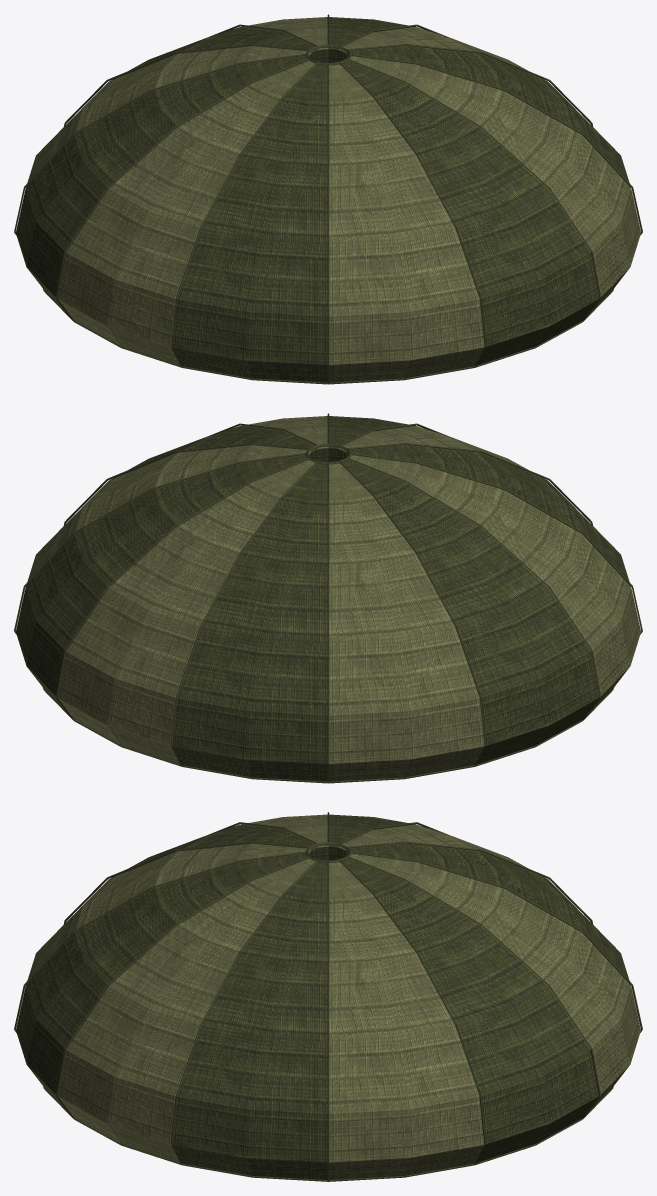
File: weapon_supply_parachute.obj
The picture shows the model from 3 angles, top to bottom: view 1: azimuth 30°, elevation 25°; view 2: azimuth 150°, elevation 25°; view 3: azimuth 270°, elevation 25°; orthographic projection.
Parts seen in each view (by area): view 1: canopy_gore_05, canopy_gore_04, canopy_gore_06, canopy_gore_03, canopy_gore_07, canopy_gore_02, canopy_gore_01, canopy_gore_08, canopy_gore_09, canopy_gore_12, canopy_gore_11, canopy_gore_10; view 2: canopy_gore_08, canopy_gore_09, canopy_gore_07, canopy_gore_10, canopy_gore_06, canopy_gore_11, canopy_gore_05, canopy_gore_12, canopy_gore_01, canopy_gore_04, canopy_gore_02, canopy_gore_03; view 3: canopy_gore_01, canopy_gore_12, canopy_gore_02, canopy_gore_11, canopy_gore_03, canopy_gore_10, canopy_gore_04, canopy_gore_09, canopy_gore_05, canopy_gore_08, canopy_gore_06, canopy_gore_07.
Boxes of the visible parts, x1=… form: canopy_gore_05: x1=172, y1=64, x2=327, y2=382; canopy_gore_04: x1=329, y1=64, x2=484, y2=382; canopy_gore_06: x1=58, y1=61, x2=316, y2=365; canopy_gore_03: x1=340, y1=61, x2=598, y2=365; canopy_gore_07: x1=16, y1=56, x2=308, y2=312; canopy_gore_02: x1=348, y1=56, x2=640, y2=312; canopy_gore_01: x1=345, y1=46, x2=630, y2=187; canopy_gore_08: x1=26, y1=46, x2=311, y2=187; canopy_gore_09: x1=109, y1=27, x2=318, y2=81; canopy_gore_12: x1=338, y1=27, x2=547, y2=81; canopy_gore_11: x1=328, y1=17, x2=415, y2=62; canopy_gore_10: x1=241, y1=17, x2=328, y2=62; canopy_gore_08: x1=329, y1=463, x2=484, y2=781; canopy_gore_09: x1=172, y1=463, x2=327, y2=781; canopy_gore_07: x1=340, y1=460, x2=598, y2=764; canopy_gore_10: x1=58, y1=460, x2=316, y2=764; canopy_gore_06: x1=348, y1=455, x2=640, y2=711; canopy_gore_11: x1=16, y1=455, x2=308, y2=711; canopy_gore_05: x1=345, y1=445, x2=630, y2=586; canopy_gore_12: x1=26, y1=445, x2=311, y2=586; canopy_gore_01: x1=109, y1=426, x2=318, y2=480; canopy_gore_04: x1=338, y1=426, x2=547, y2=480; canopy_gore_02: x1=241, y1=416, x2=328, y2=461; canopy_gore_03: x1=328, y1=416, x2=415, y2=461; canopy_gore_01: x1=172, y1=862, x2=327, y2=1179; canopy_gore_12: x1=329, y1=862, x2=484, y2=1179; canopy_gore_02: x1=58, y1=858, x2=316, y2=1162; canopy_gore_11: x1=340, y1=858, x2=598, y2=1162; canopy_gore_03: x1=16, y1=853, x2=308, y2=1110; canopy_gore_10: x1=348, y1=853, x2=640, y2=1110; canopy_gore_04: x1=26, y1=843, x2=310, y2=985; canopy_gore_09: x1=346, y1=843, x2=630, y2=985; canopy_gore_05: x1=111, y1=824, x2=318, y2=878; canopy_gore_08: x1=338, y1=824, x2=545, y2=878; canopy_gore_06: x1=241, y1=814, x2=328, y2=860; canopy_gore_07: x1=328, y1=814, x2=415, y2=860.
Bounding box in the file's own units: 1.01 × 0.3656 × 1.01.
